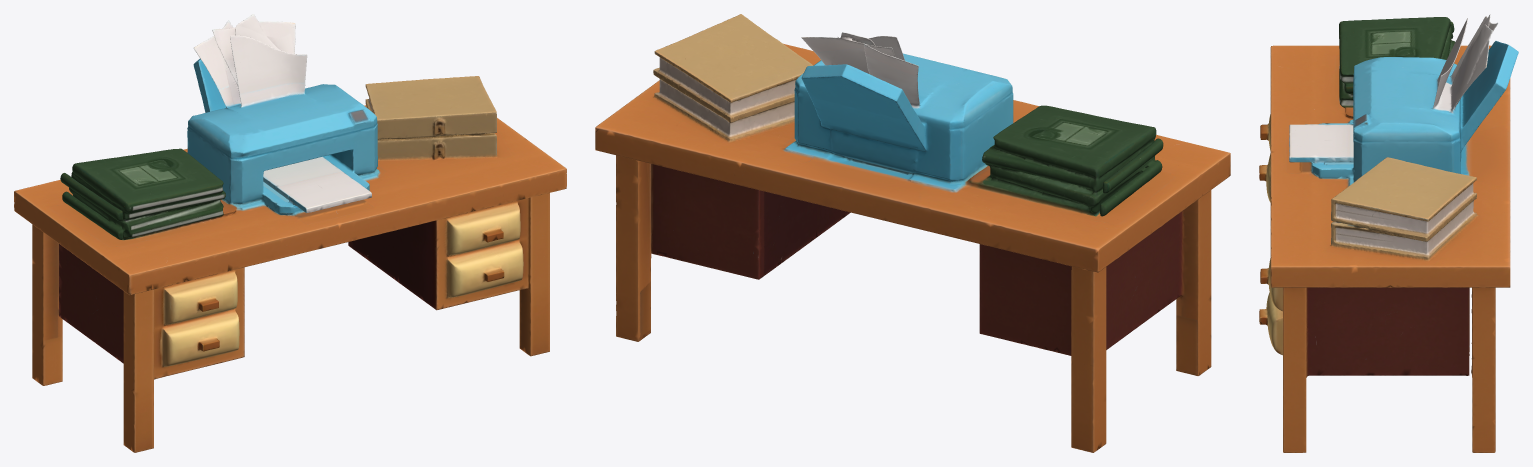
Rendered from Estacion_Seguridad.glb.
3 renders of one model, left to right at view 1: azimuth 30°, elevation 25°; view 2: azimuth 150°, elevation 25°; view 3: azimuth 270°, elevation 25°, orthographic. The views are drawn at different scales.
Size of the model in its own units: 1.9 by 1.29 by 0.9403.
Materials: 1 (1 with a texture image).
